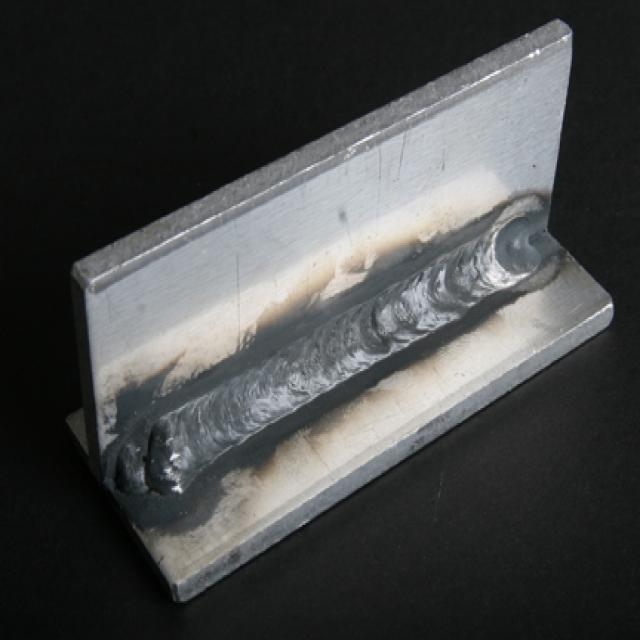Good Welding: (96, 195, 554, 499)
